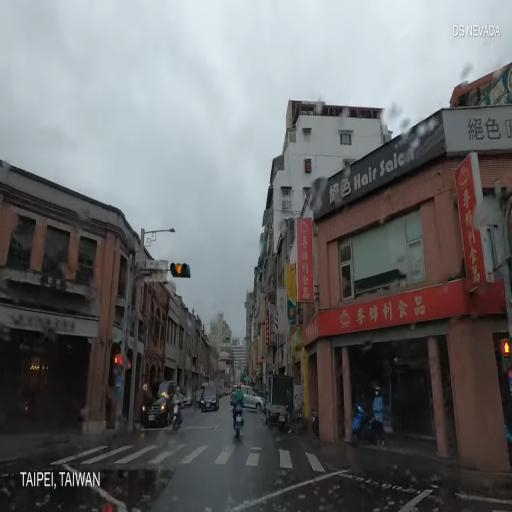Car: (140, 380, 178, 431), (265, 372, 294, 426), (229, 383, 266, 413), (200, 382, 221, 416), (176, 386, 194, 410), (200, 378, 212, 407), (195, 388, 206, 410), (220, 388, 228, 398), (225, 388, 229, 394)
